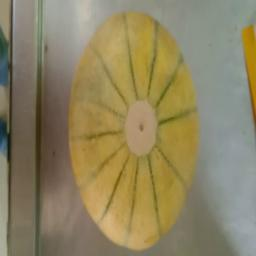Melon Fresh: (53, 4, 220, 256)
